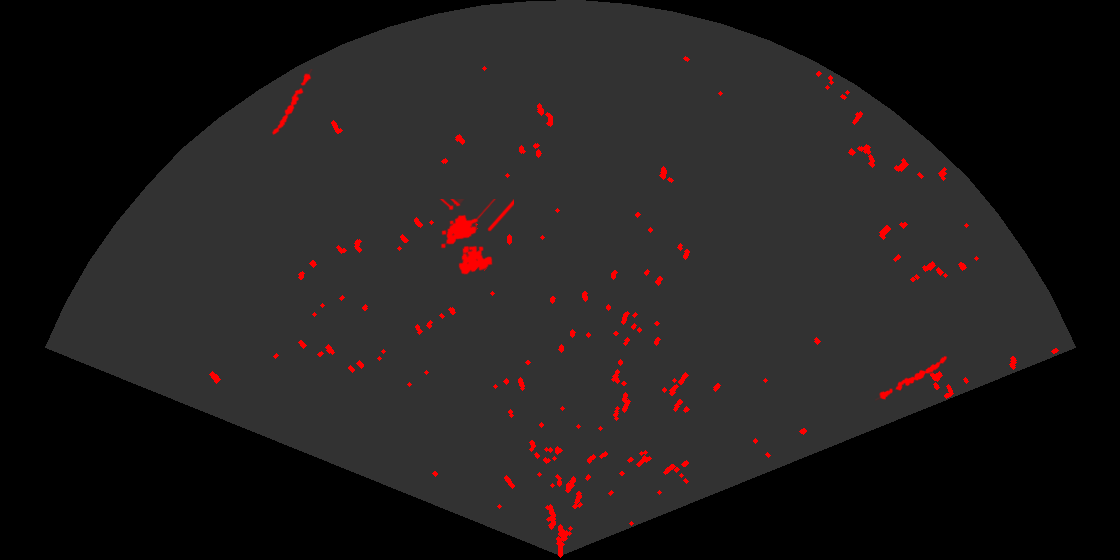cage: (438, 199, 514, 276)
chain: (875, 354, 949, 402), (270, 69, 314, 137)
